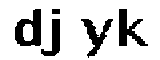d: (10, 6, 45, 48)
j: (43, 5, 69, 60)
k: (114, 2, 150, 50)
y: (76, 16, 114, 60)
